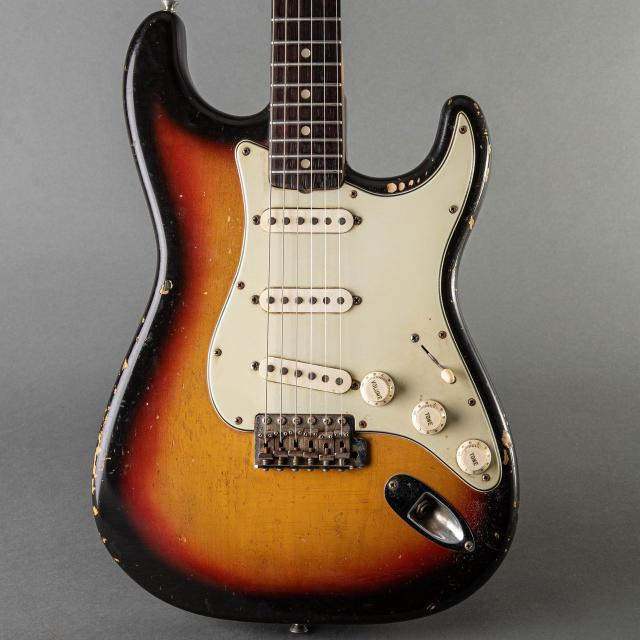Electric-Guitar: (91, 0, 525, 638)
